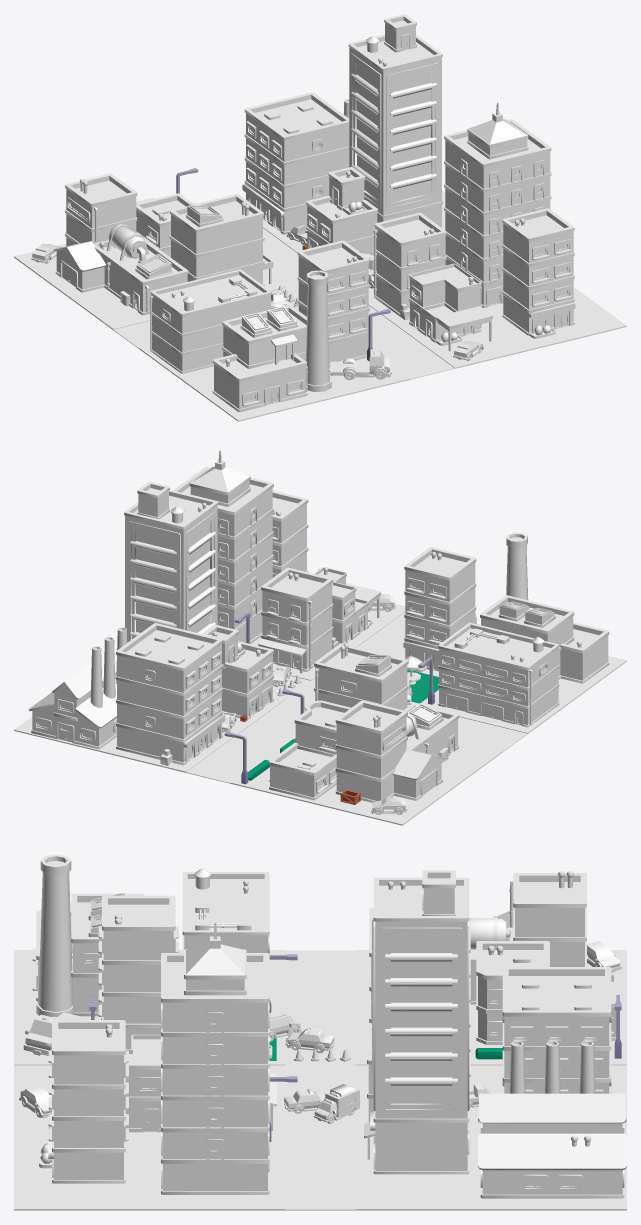
Rendered from CityTileSetTest.glb.
3 renders of one model, top to bottom at view 1: azimuth 30°, elevation 25°; view 2: azimuth 150°, elevation 25°; view 3: azimuth 270°, elevation 25°, orthographic. The views are drawn at different scales.
Parts seen in each view (by area): view 1: building-f (×3), building-skyscraper-c, building-m, building-d (×2), building-i, building-r, tile-low (×10), building-a, building-type-q, building-h, road-straight (×3), road-crossing (×2) (+2 smaller); view 2: building-f (×3), building-m (×2), building-i, building-skyscraper-c, building-r, building-a, building-d (×2), building-h, road-straight (×4), building-e, tile-low (×5), road-crossing (×2) (+4 smaller); view 3: building-m (×2), building-f (×3), building-skyscraper-c, tile-low (×12), road-straight (×6), building-i, building-r, road-crossing (×3), building-a, building-e, building-type-q, road-crossroad-path (+6 smaller).
Part boxes in pixels (left/top/right/bottom): building-f (×3): left=212, top=208, right=575, bottom=412; building-skyscraper-c: left=348, top=14, right=442, bottom=227; building-m: left=444, top=102, right=551, bottom=307; building-d (×2): left=169, top=167, right=378, bottom=285; building-i: left=242, top=92, right=349, bottom=234; building-r: left=53, top=173, right=188, bottom=315; tile-low (×10): left=14, top=243, right=626, bottom=421; building-a: left=150, top=269, right=271, bottom=373; building-type-q: left=409, top=263, right=492, bottom=351; building-h: left=371, top=212, right=446, bottom=316; road-straight (×3): left=110, top=249, right=460, bottom=380; road-crossing (×2): left=263, top=225, right=427, bottom=354; building-f (×3): left=272, top=490, right=609, bottom=683; building-m (×2): left=28, top=450, right=273, bottom=749; building-i: left=116, top=623, right=225, bottom=765; building-skyscraper-c: left=124, top=482, right=218, bottom=642; building-r: left=335, top=700, right=458, bottom=802; building-a: left=438, top=622, right=559, bottom=727; building-d (×2): left=202, top=625, right=408, bottom=719; building-h: left=258, top=567, right=333, bottom=673; road-straight (×4): left=180, top=606, right=530, bottom=784; building-e: left=269, top=700, right=350, bottom=800; tile-low (×5): left=291, top=678, right=594, bottom=825; road-crossing (×2): left=213, top=629, right=405, bottom=760; building-m (×2): left=161, top=922, right=626, bottom=1198; building-f (×3): left=32, top=854, right=178, bottom=1183; building-skyscraper-c: left=364, top=870, right=470, bottom=1174; tile-low (×12): left=14, top=950, right=626, bottom=1210; road-straight (×6): left=14, top=950, right=626, bottom=1210; building-i: left=502, top=967, right=611, bottom=1093; building-r: left=469, top=871, right=586, bottom=1004; road-crossing (×3): left=276, top=987, right=502, bottom=1172; building-a: left=182, top=868, right=269, bottom=953; building-e: left=476, top=941, right=619, bottom=1044; building-type-q: left=125, top=1034, right=160, bottom=1132; road-crossroad-path: left=276, top=1061, right=364, bottom=1097.
Bounding box in the file's own units: 7 × 3.68 × 7.
Materials: 1 (1 with a texture image).
